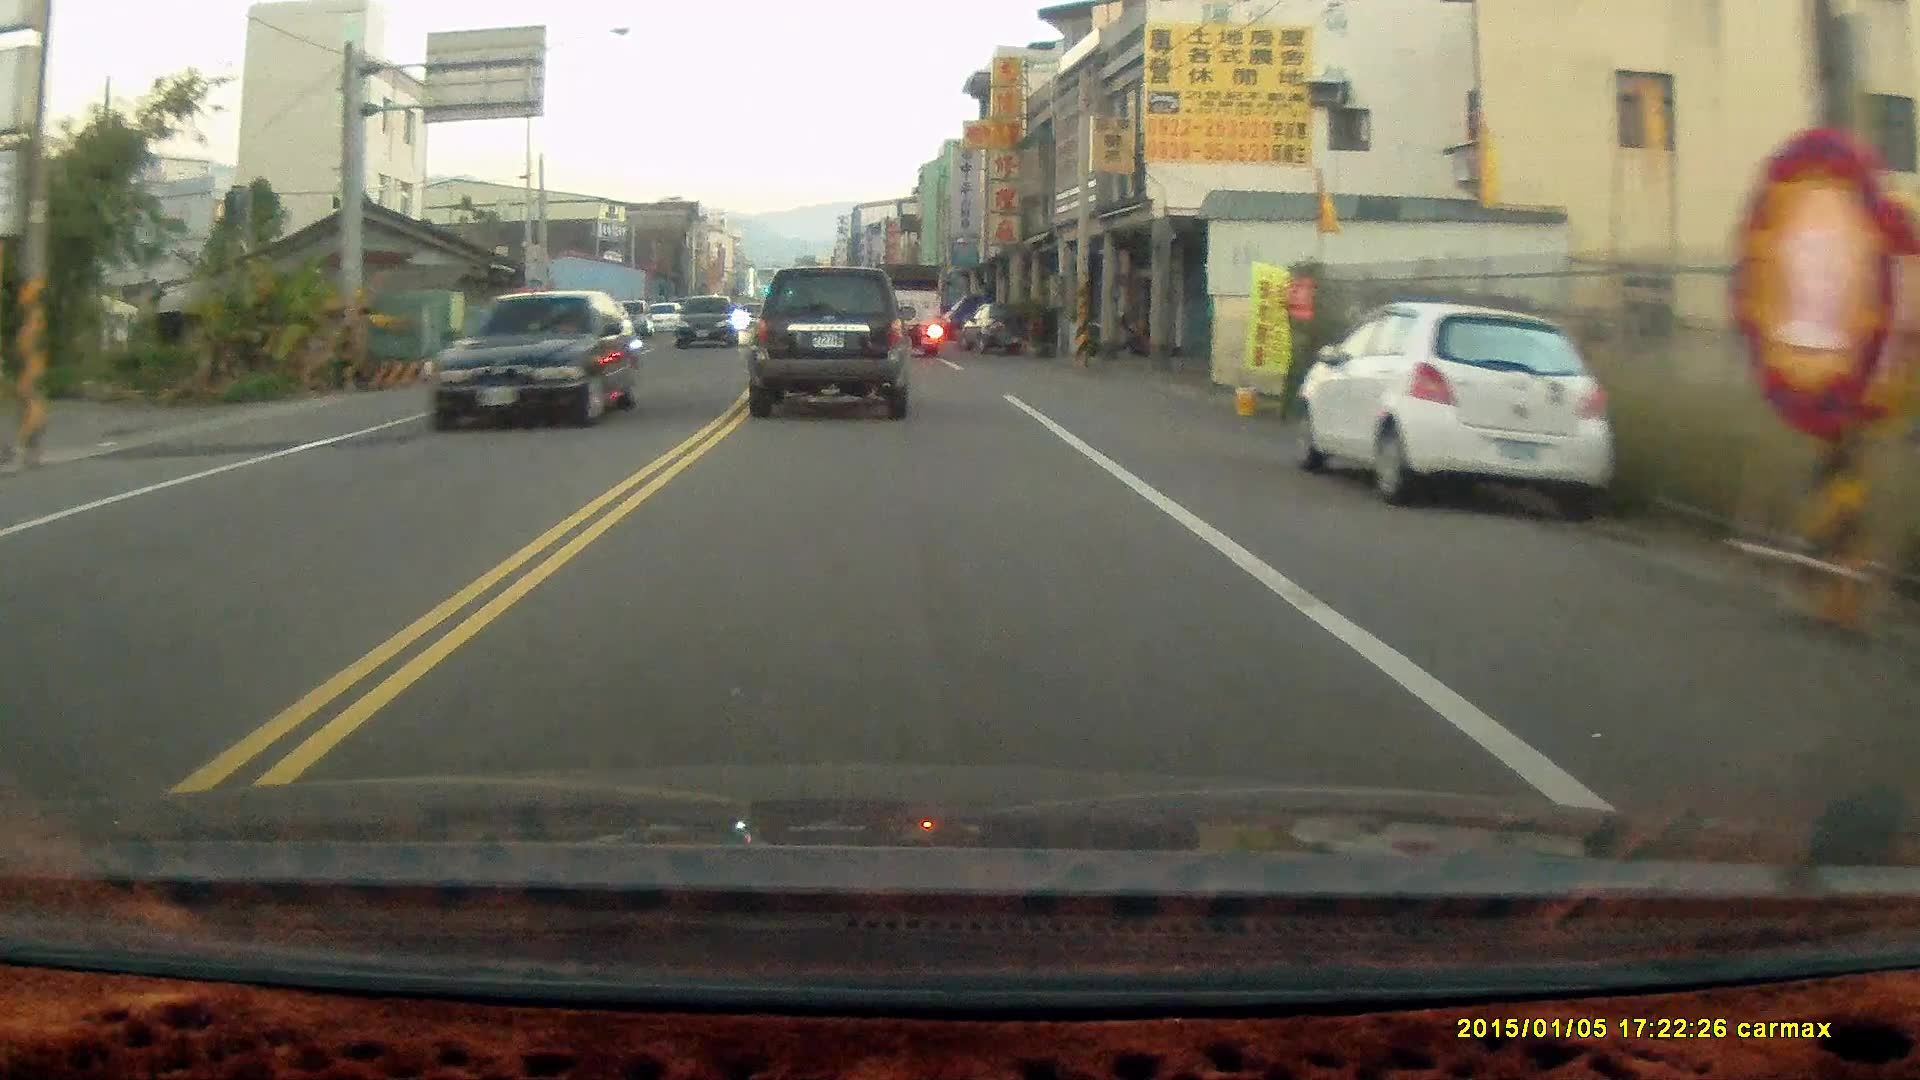vehicle: (1298, 302, 1610, 520), (426, 287, 651, 433), (745, 266, 918, 423), (872, 262, 948, 359), (674, 295, 744, 353)
